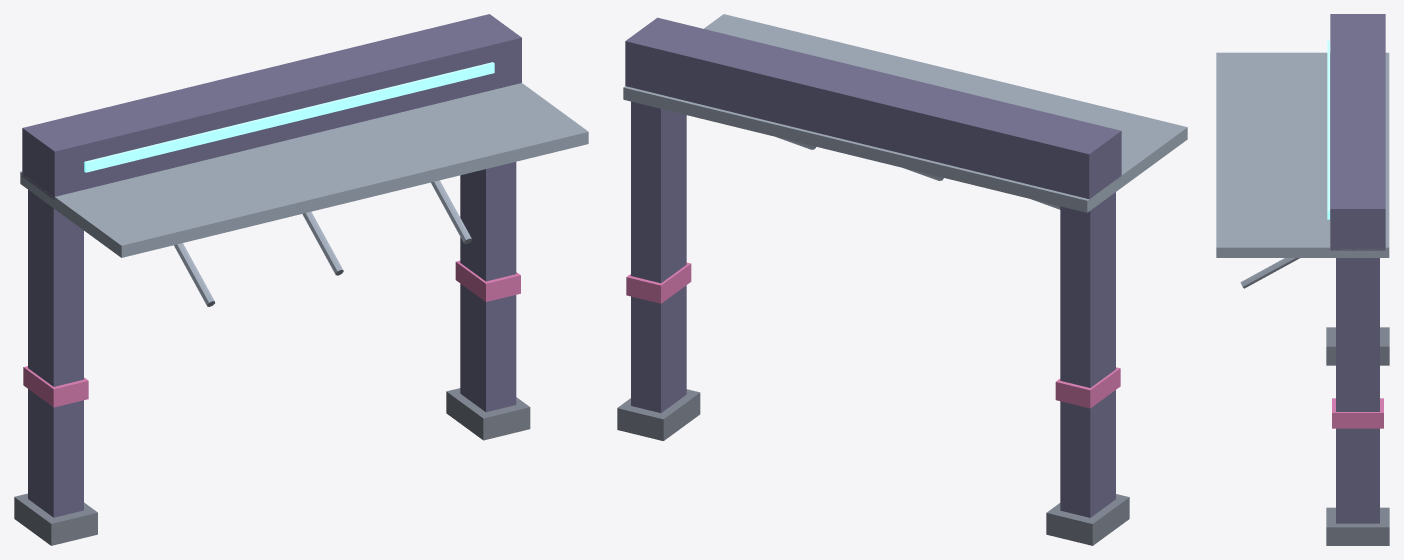
The model's file is neon-dispatch-covered-arcade-frontage__167.glb.
The picture shows the model from 3 angles, left to right: view 1: azimuth 30°, elevation 25°; view 2: azimuth 150°, elevation 25°; view 3: azimuth 270°, elevation 25°; orthographic projection. The views are drawn at different scales.
Parts seen in each view (by area): view 1: shell, metal, light, paving, accent; view 2: shell, metal, paving, accent; view 3: metal, shell, paving, accent, light.
Part boxes in pixels (x1,y1,x2,y2): shell: [22, 14, 521, 517]; metal: [20, 83, 588, 306]; light: [84, 62, 494, 172]; paving: [14, 388, 530, 545]; accent: [23, 260, 520, 407]; shell: [625, 17, 1121, 517]; metal: [623, 14, 1187, 212]; paving: [617, 389, 1129, 545]; accent: [626, 262, 1120, 408]; metal: [1216, 52, 1389, 288]; shell: [1330, 14, 1385, 523]; paving: [1326, 327, 1389, 545]; accent: [1332, 398, 1383, 428]; light: [1327, 40, 1329, 219].
Bounding box in the file's own units: 4.1 × 3.2 × 1.51.
